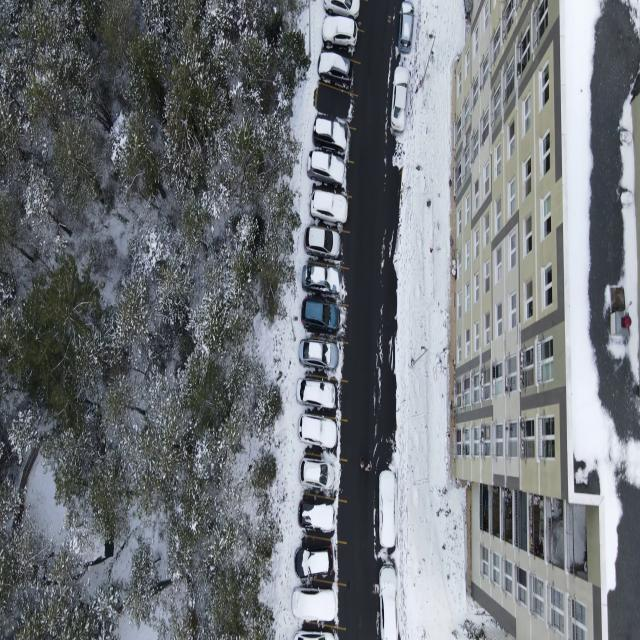p3rson: (364, 460, 372, 472), (359, 455, 365, 470)
